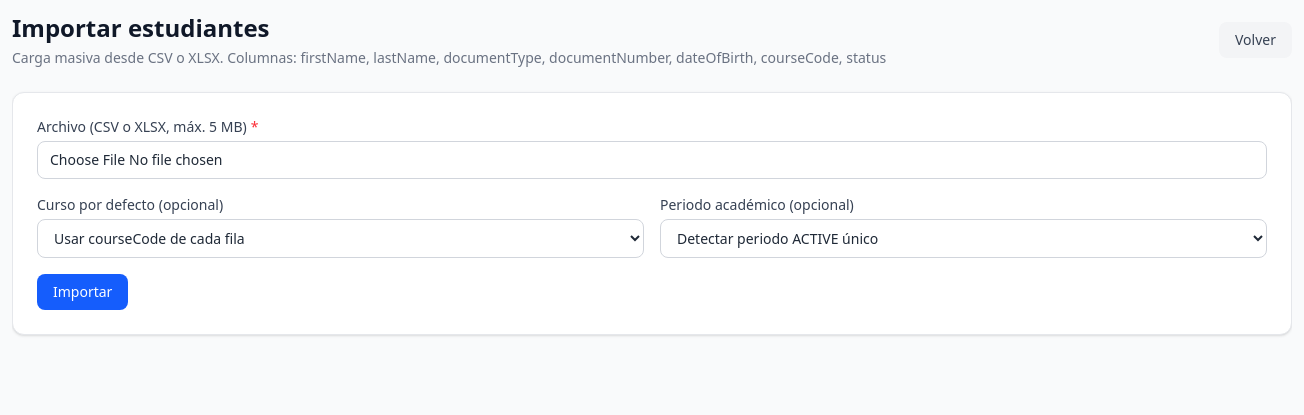
it: StudentImportPage (GAP-3) › warns when no file is selected
Click the button "Importar" at (83, 292), box [37,274,128,310]
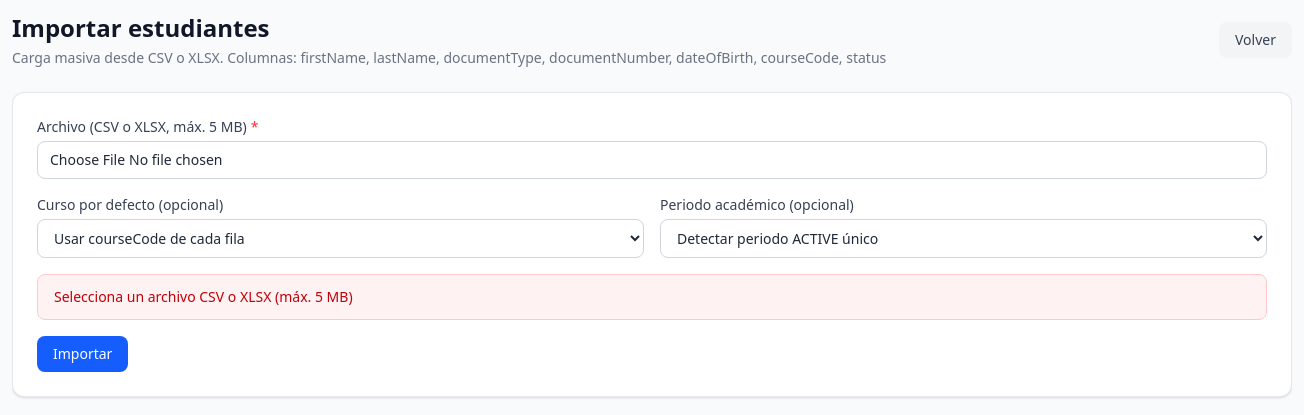
expect the text "Selecciona un archivo CSV o XLSX (máx. 5 MB)" is shown: met, box [37,274,1267,320]
